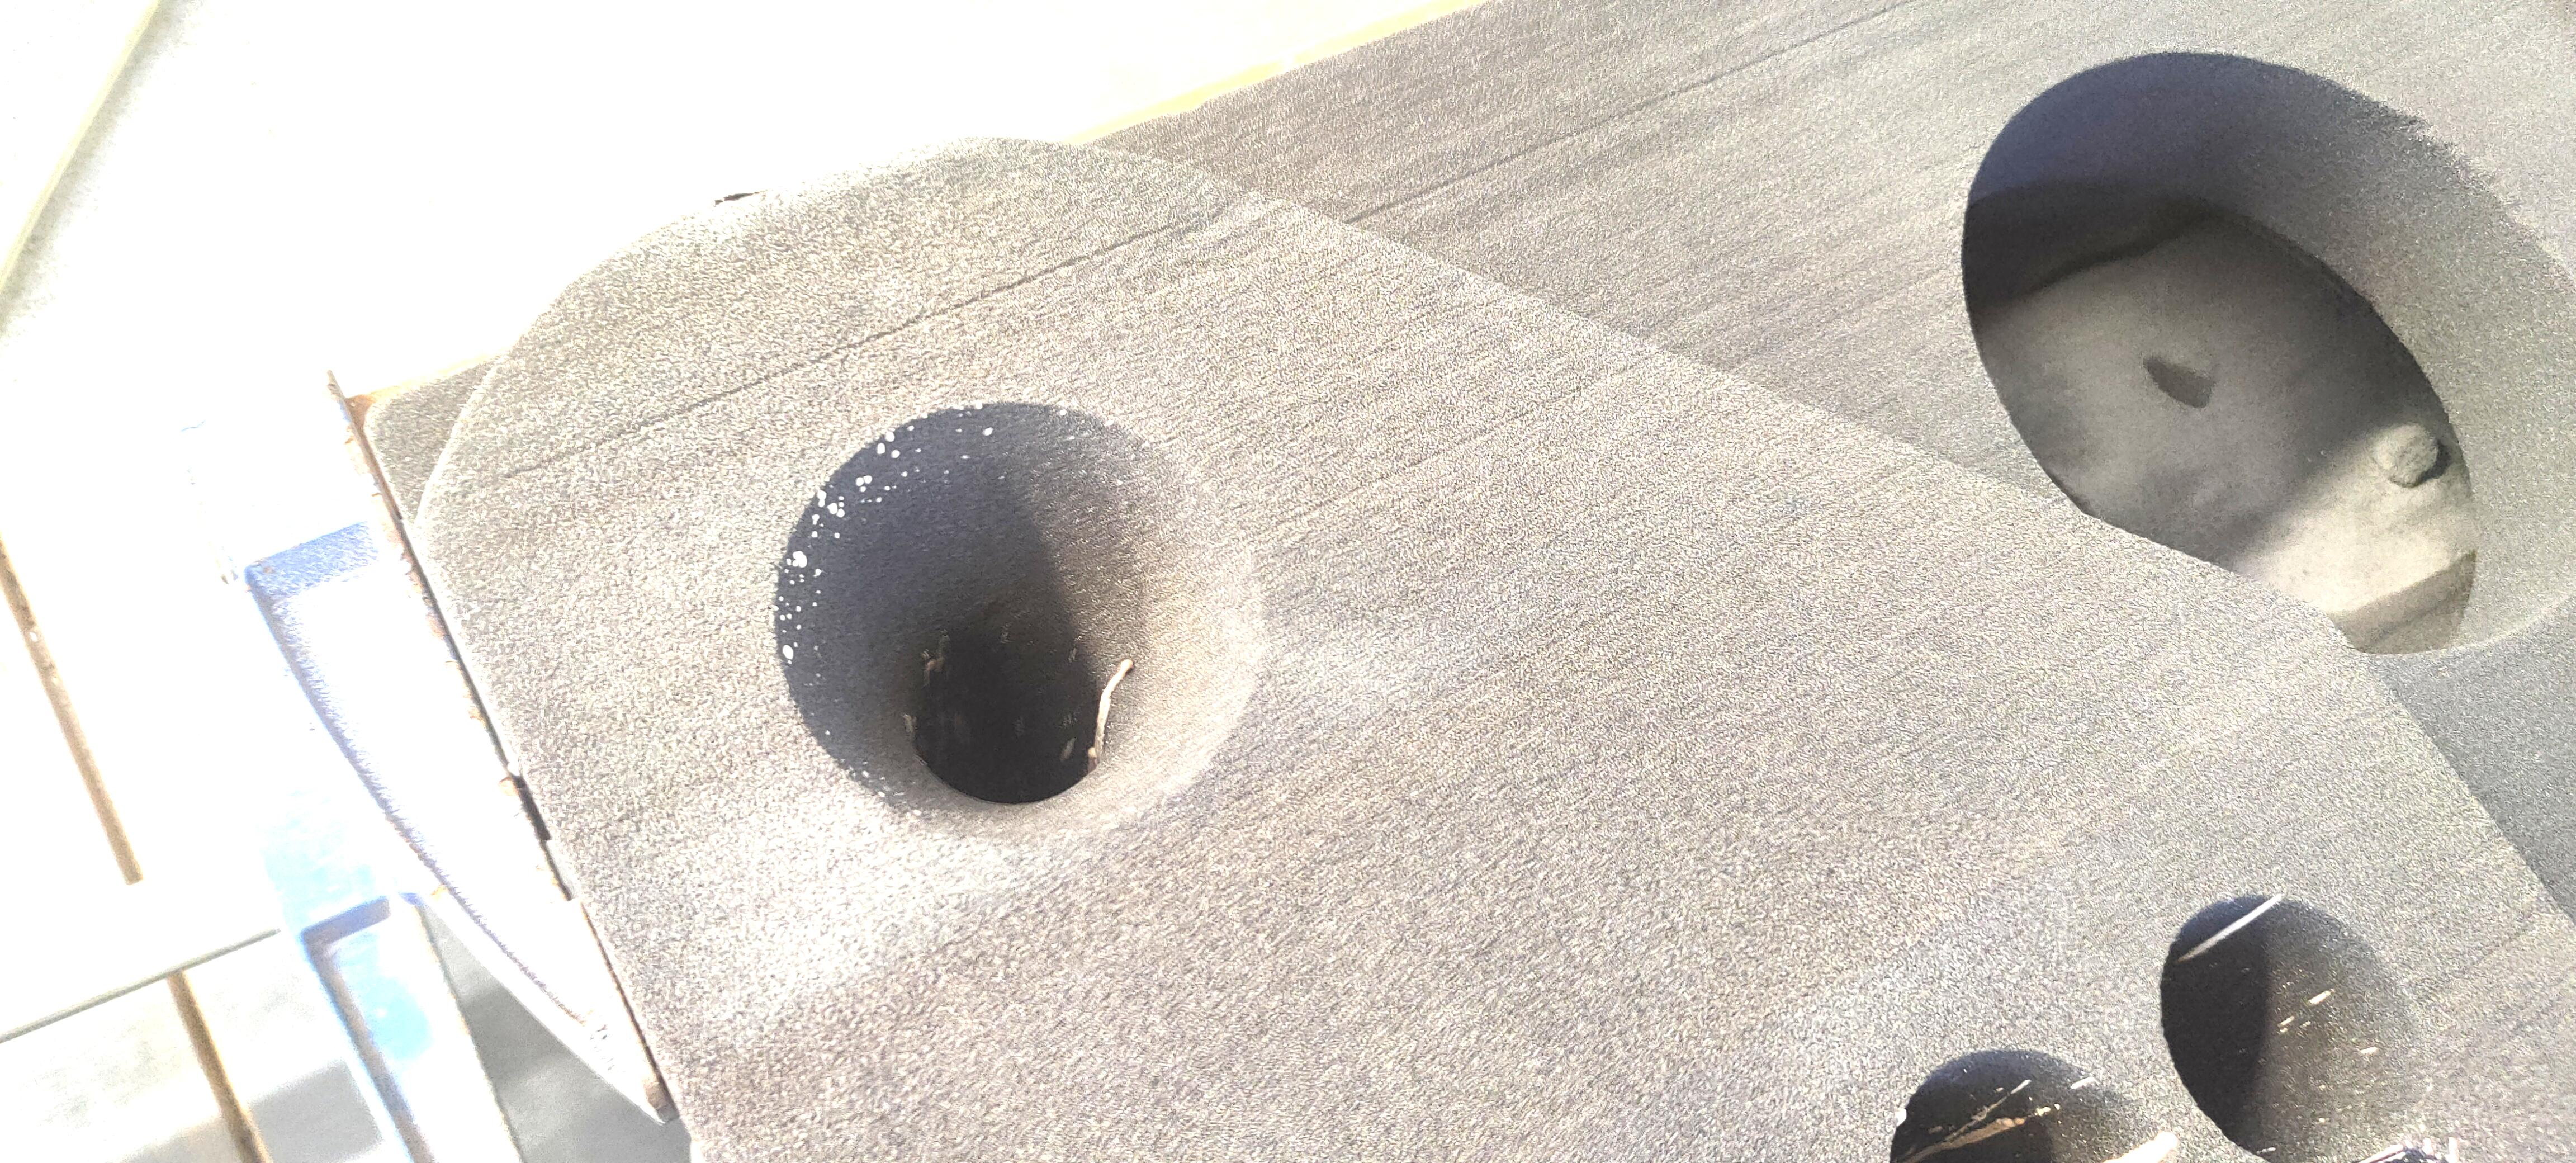pouring hole: (769, 401, 1267, 838)
